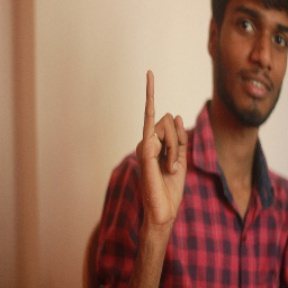I: (133, 71, 190, 224)
